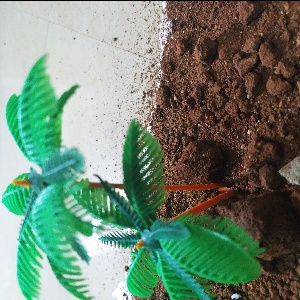plant: (1, 73, 249, 297)
